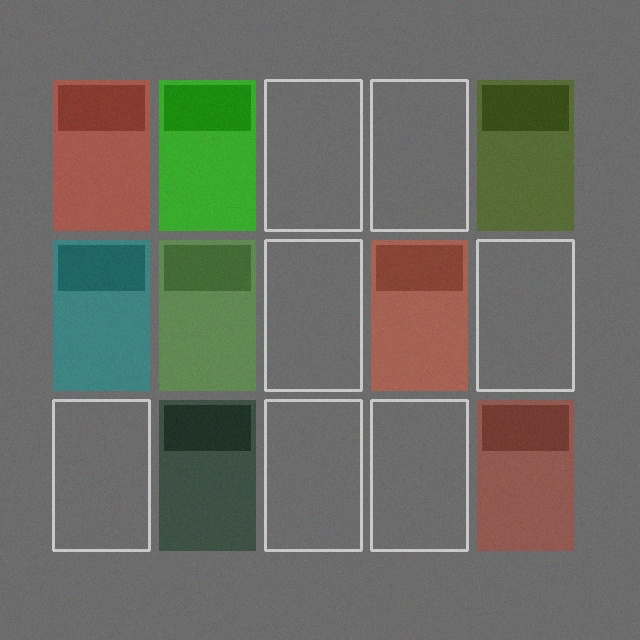space-empty: (265, 80, 361, 230), (371, 80, 467, 230), (265, 240, 361, 390), (477, 240, 573, 390), (53, 400, 149, 550), (265, 400, 361, 550), (371, 400, 467, 550)
space-occupied: (53, 80, 149, 230), (159, 80, 255, 230), (477, 80, 573, 230), (53, 240, 149, 390), (159, 240, 255, 390), (371, 240, 467, 390), (159, 400, 255, 550), (477, 400, 573, 550)
